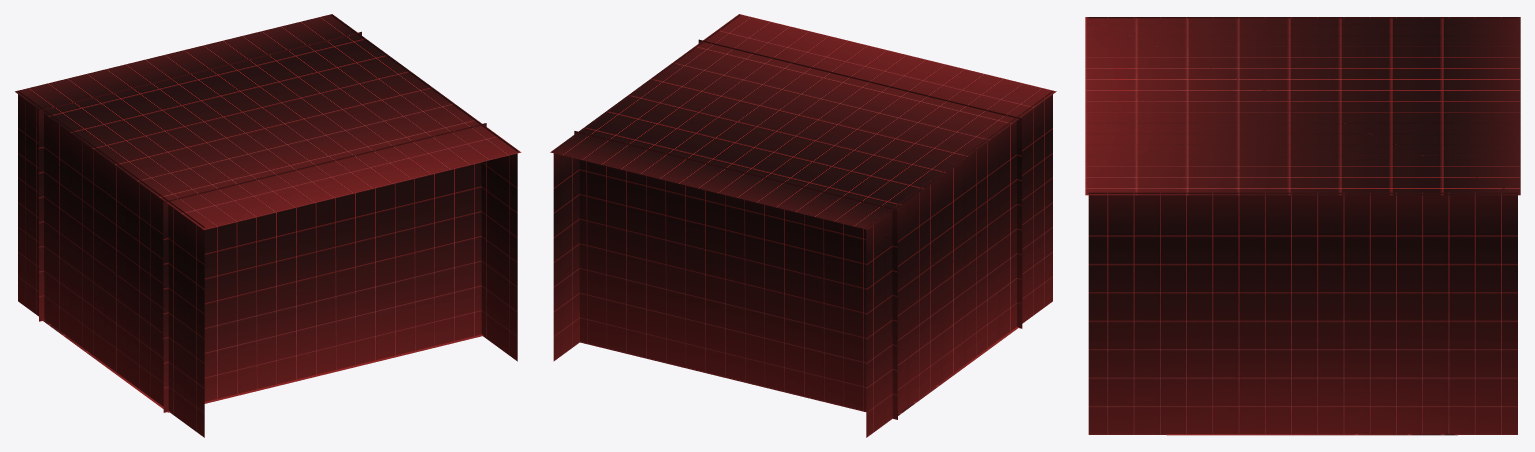
Rendered from Stage0_3D_RED.glb.
3 views of the same model, side by side, from view 1: azimuth 30°, elevation 25°; view 2: azimuth 150°, elevation 25°; view 3: azimuth 270°, elevation 25° (orthographic). The views are drawn at different scales.
Parts seen in each view (by area): view 1: Plane.001, Plane; view 2: Plane.001, Plane; view 3: Plane.001, Plane.
Part boxes in pixels (<box>): Plane.001: <box>15,14,521,437</box>; Plane: <box>42,319,483,412</box>; Plane.001: <box>550,14,1056,437</box>; Plane: <box>582,326,1019,418</box>; Plane.001: <box>1085,17,1520,434</box>; Plane: <box>1166,434,1457,435</box>.
Bounding box in the file's own units: 39.08 × 24.36 × 39.61.
2 materials, 2 textured.
